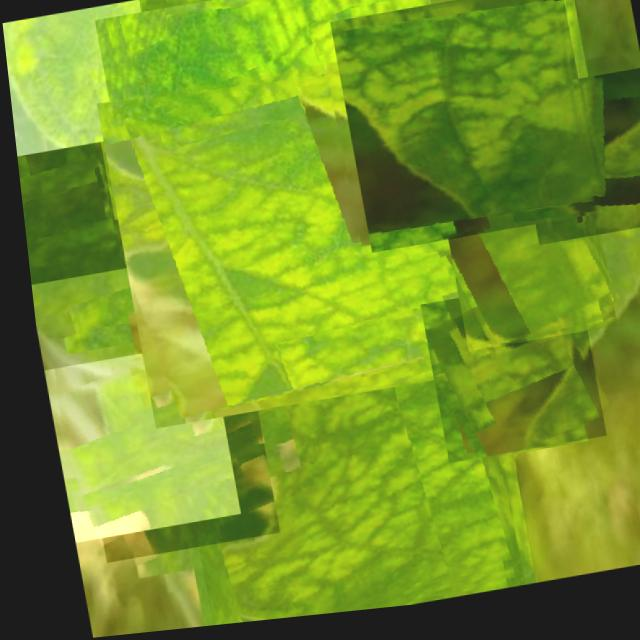leaf_spot: (91, 0, 487, 419), (92, 53, 472, 431), (152, 301, 511, 630), (327, 0, 598, 260), (75, 0, 331, 222), (64, 362, 268, 563), (12, 128, 203, 337), (34, 343, 229, 542), (411, 286, 595, 471), (435, 188, 608, 360), (1, 0, 160, 155), (506, 79, 640, 256), (11, 117, 128, 283)
